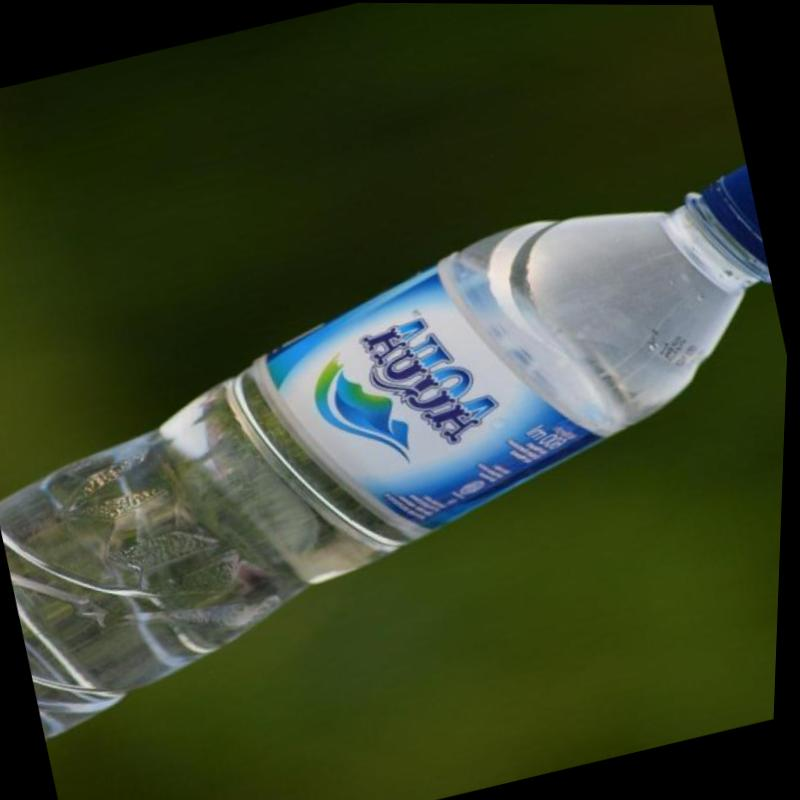botella: (0, 159, 795, 744)
